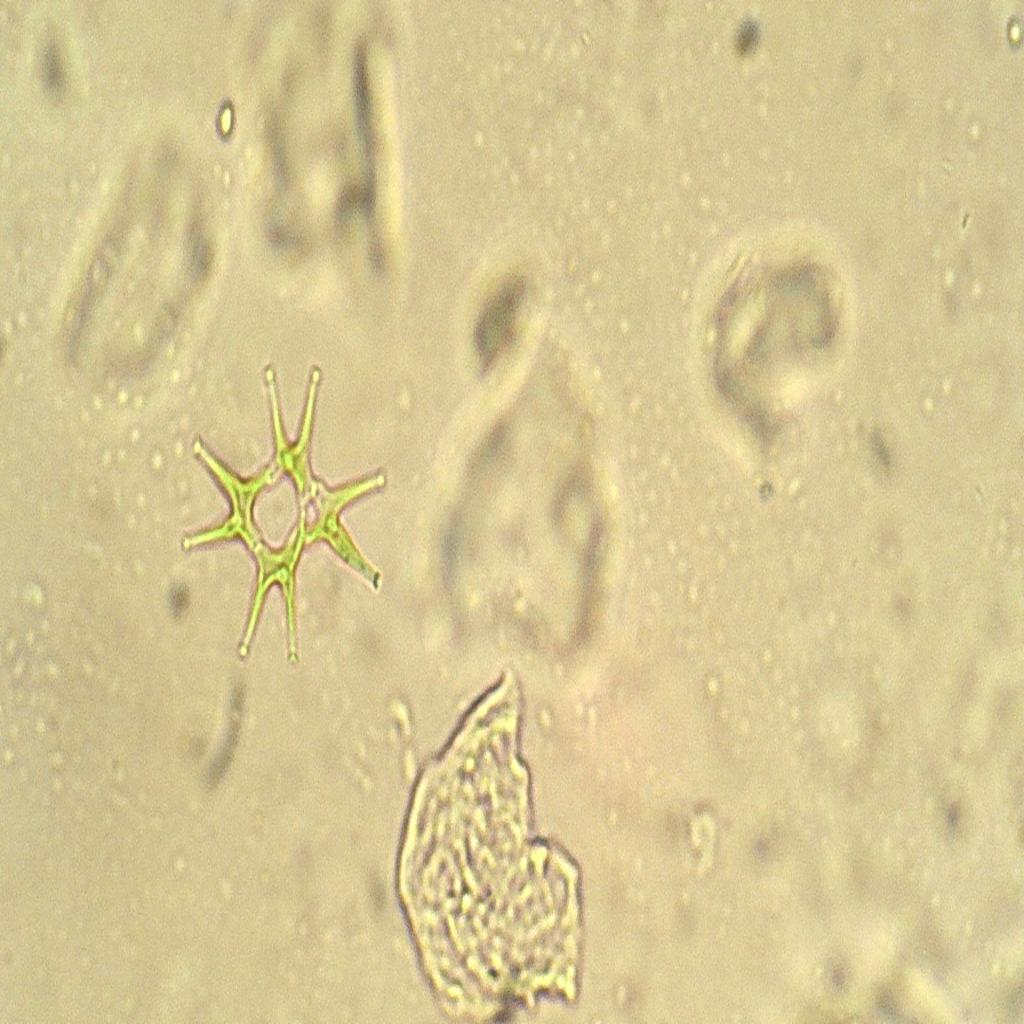Pediastrum_75FO: (178, 346, 392, 684)
